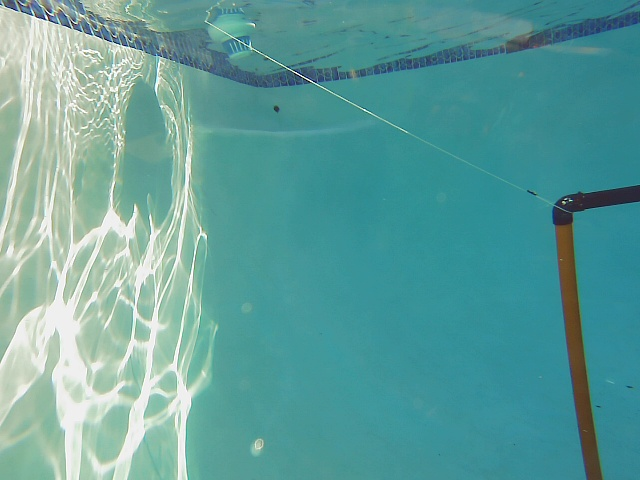Gate: (549, 214, 606, 480)
